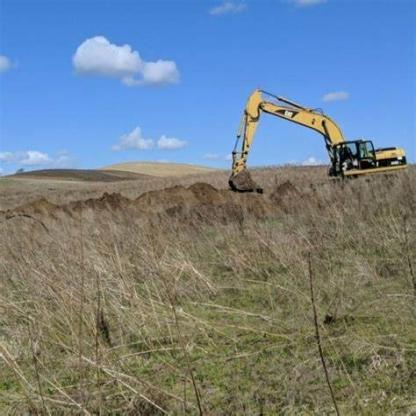excavator: (219, 80, 415, 212)
